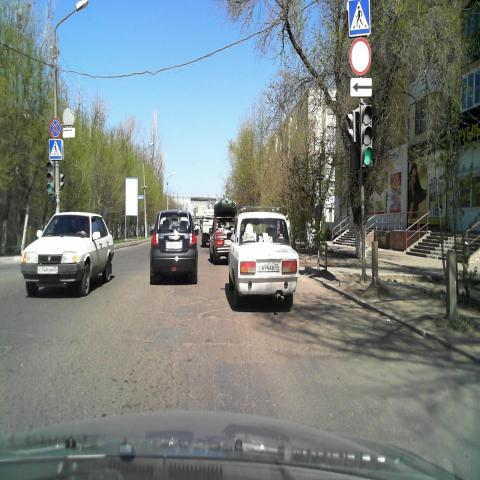3_2: (349, 38, 371, 76)
8_3_2: (350, 78, 372, 97)
